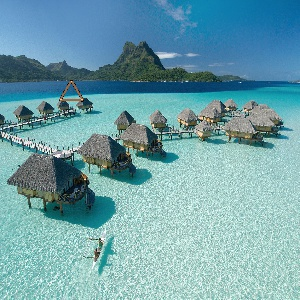triangle: (58, 79, 84, 103)
